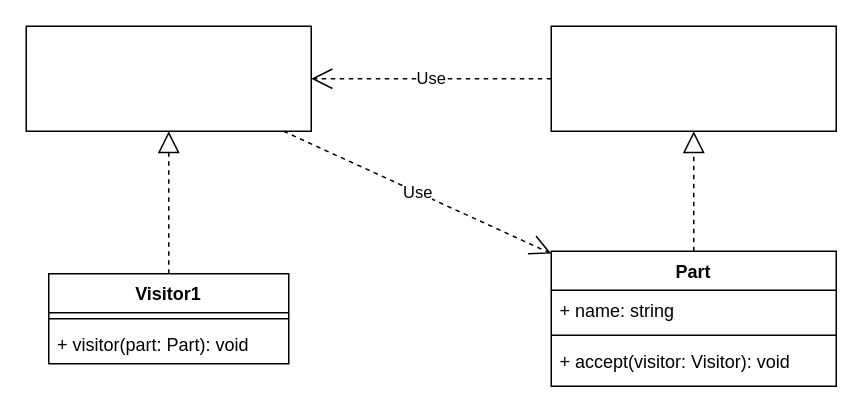
Some shapes in this 863 by 417 pixel diagram are drawn without their labels. The centre of each missing label's shape, as x and y in pixels:
<<Interface>> Visitable + accept(cisitor: Visitor): void: point 693,78
<<Interface>> Visitor + visit(part: Part): void: point 168,78
